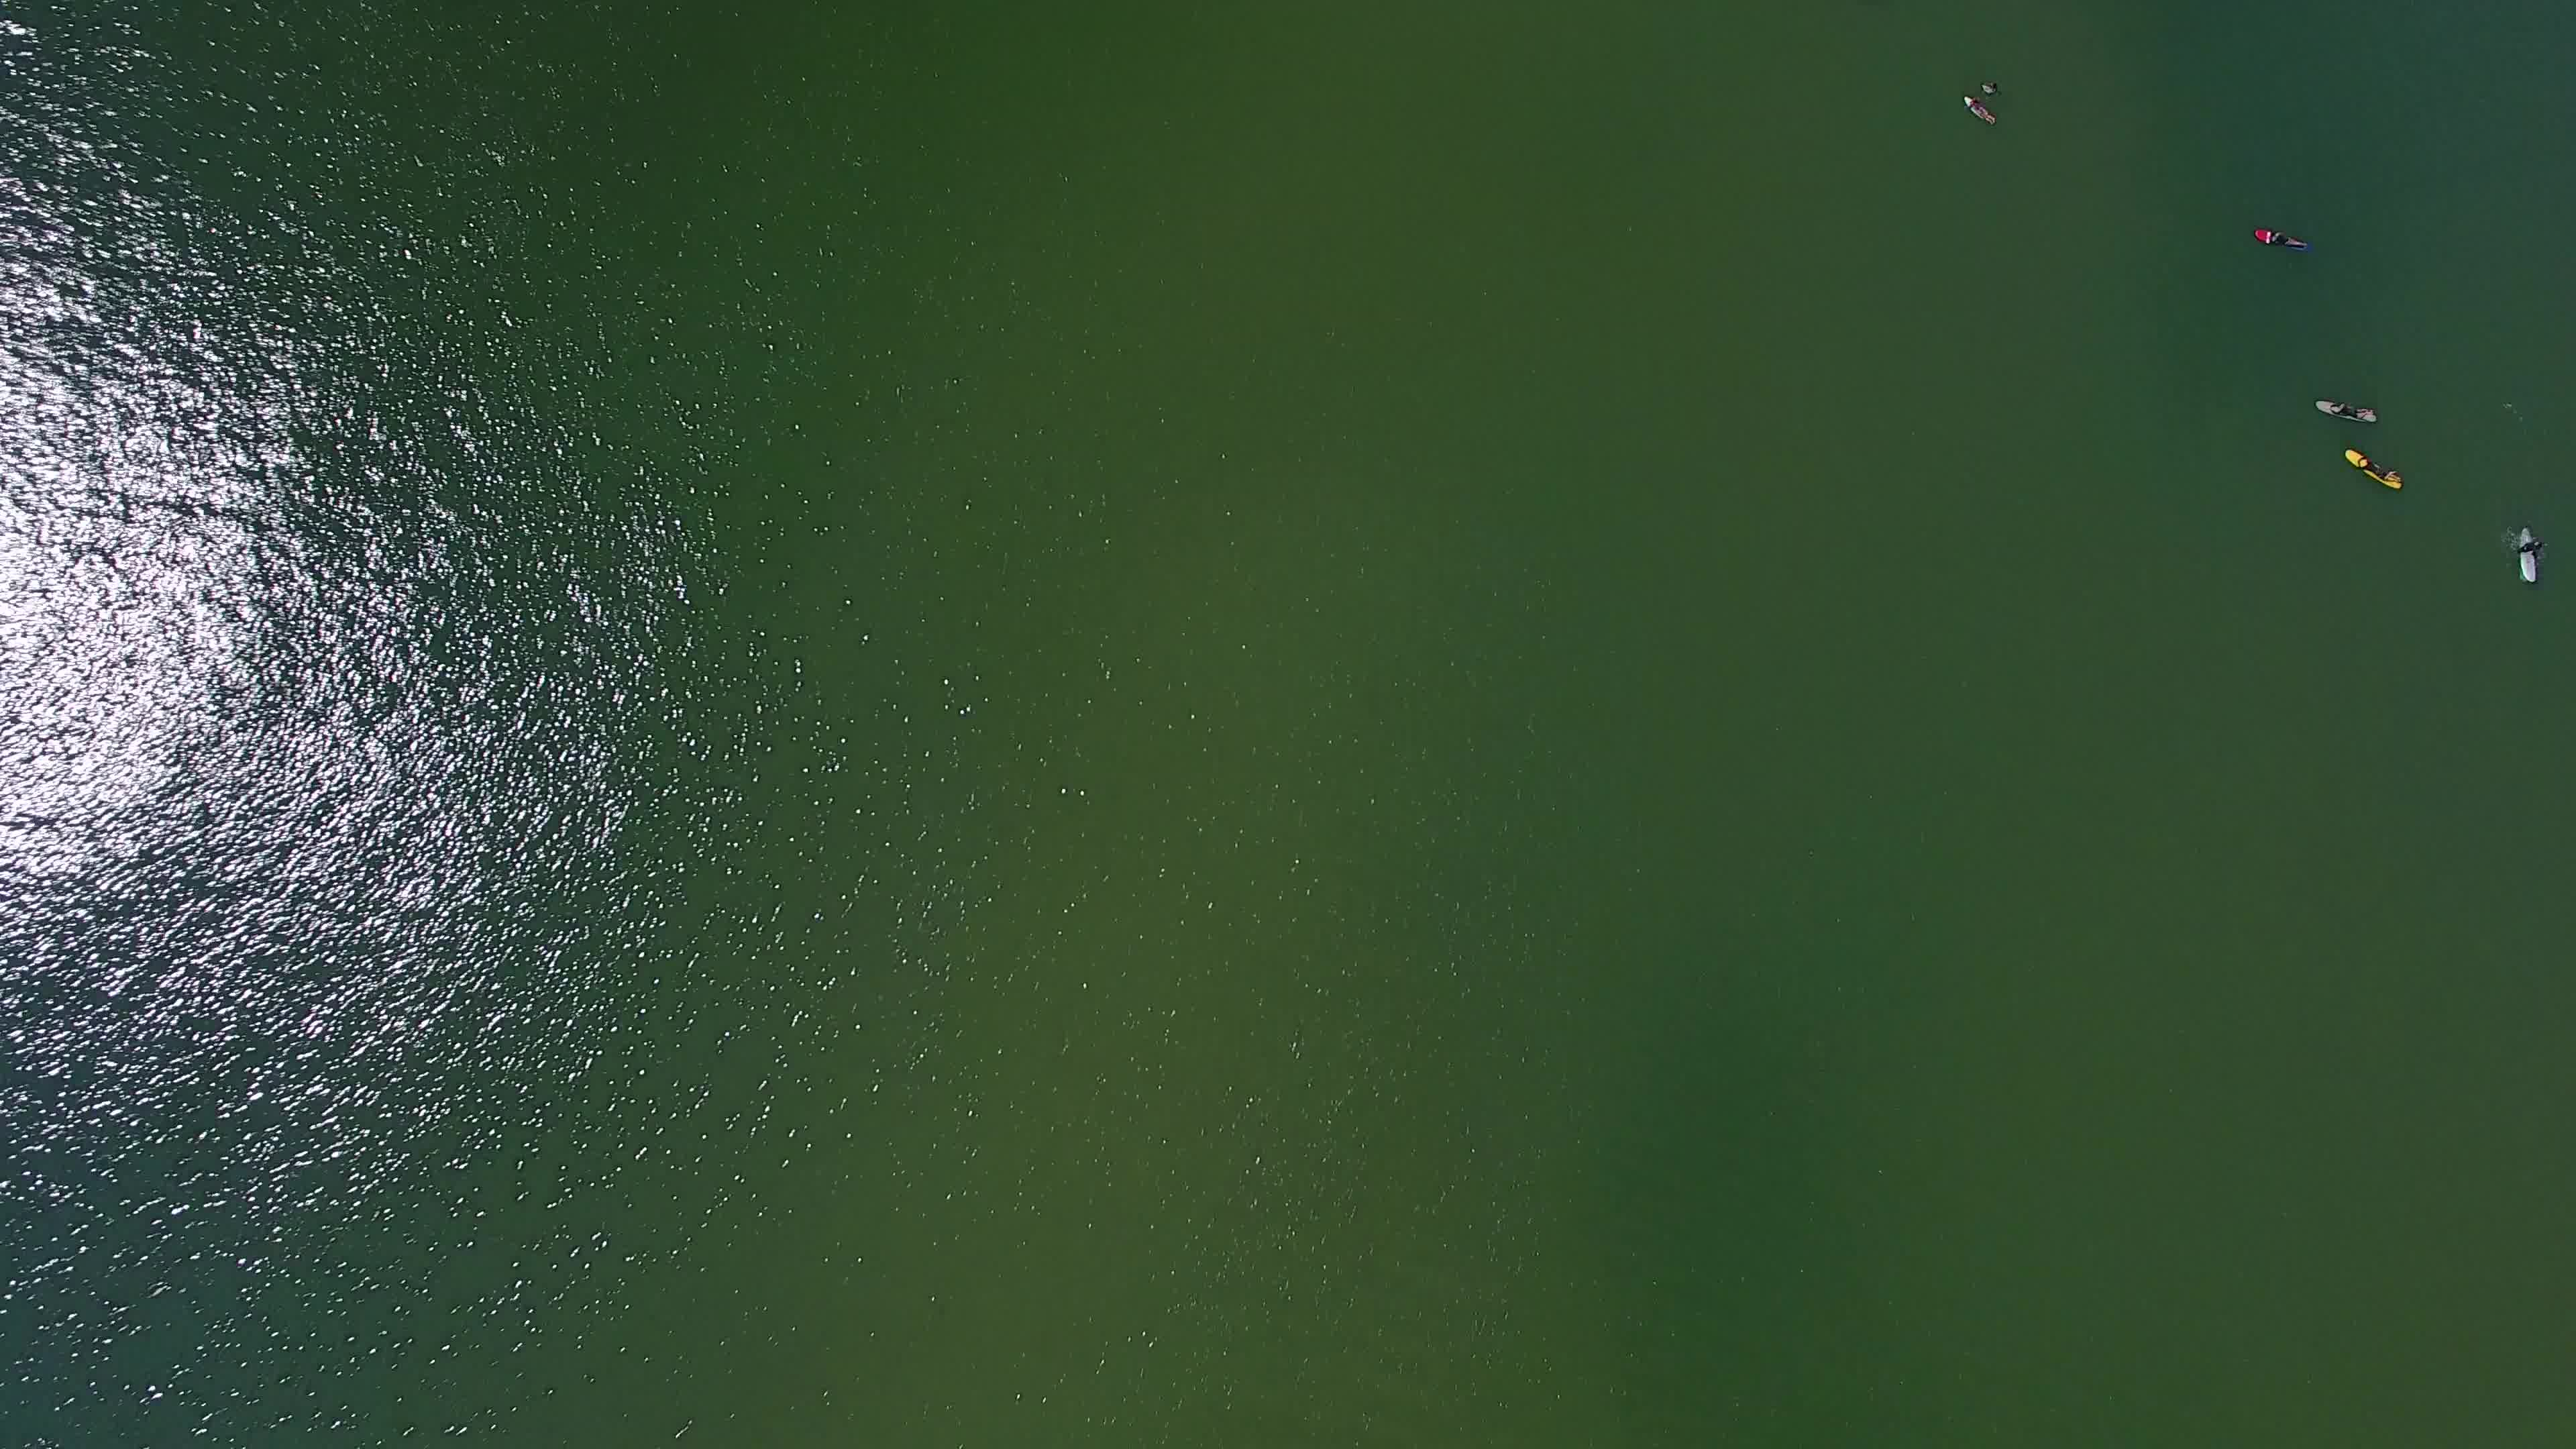surfer: (2335, 448, 2408, 499), (2498, 517, 2549, 589), (2307, 387, 2383, 430), (2249, 219, 2316, 258), (1960, 92, 2001, 131), (1980, 83, 2008, 97)
